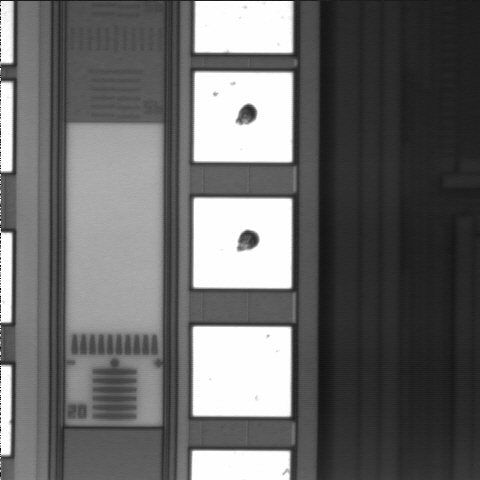pad: (193, 198, 292, 288), (194, 72, 292, 162), (193, 327, 291, 416)
